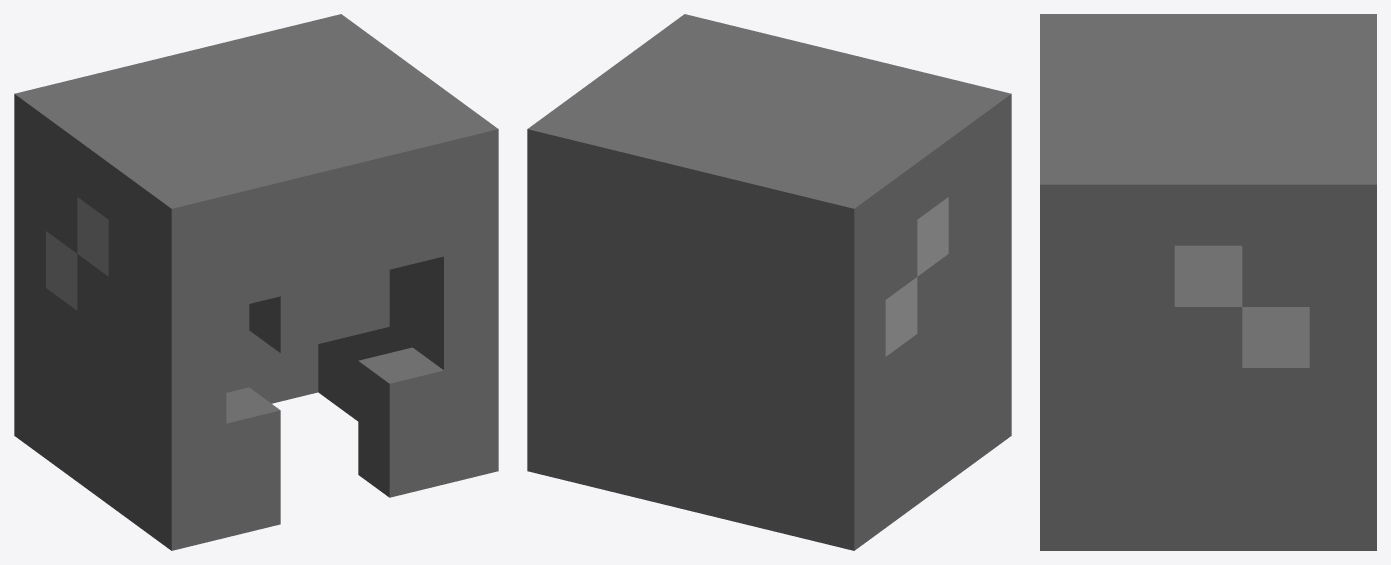
The model's file is helmet.obj.
The picture shows the model from 3 angles, left to right: view 1: azimuth 30°, elevation 25°; view 2: azimuth 150°, elevation 25°; view 3: azimuth 270°, elevation 25°; orthographic projection. The views are drawn at different scales.
Bounding box in the file's own units: 0.6 × 0.6 × 0.5.
1 material, 1 textured.
